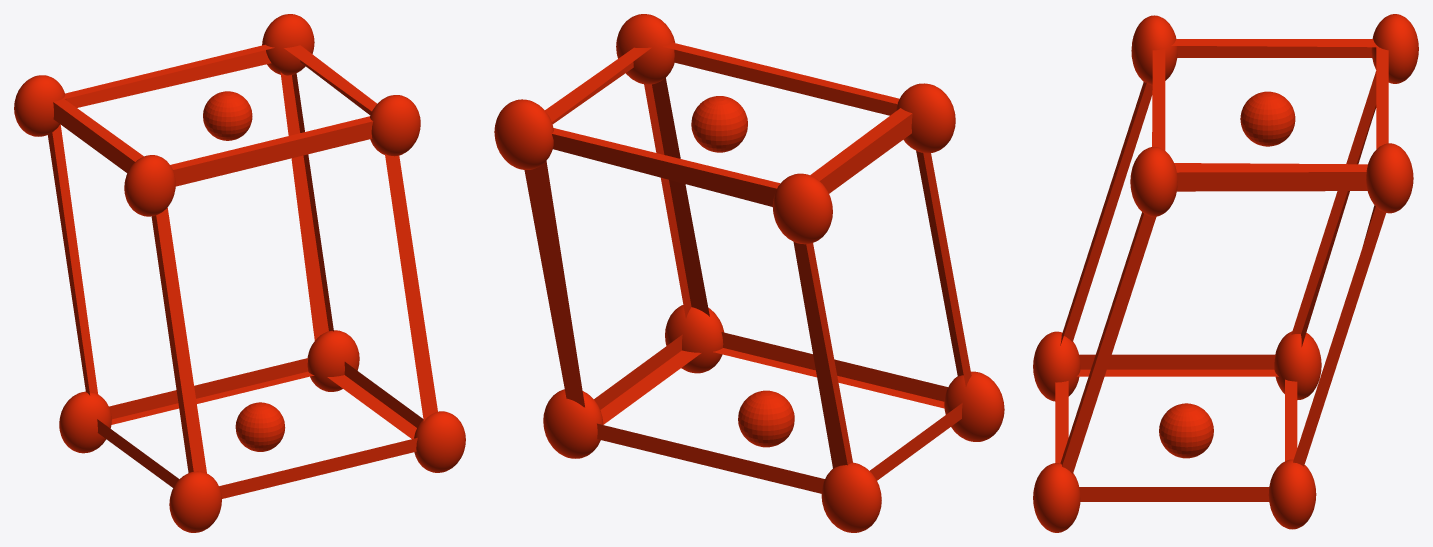
The model's file is Monoclinique2.fbx.
3 renders of one model, left to right at view 1: azimuth 30°, elevation 25°; view 2: azimuth 150°, elevation 25°; view 3: azimuth 270°, elevation 25°, orthographic. The views are drawn at different scales.
Visible parts, largest first — view 1: Sphere; view 2: Sphere; view 3: Sphere.
Part boxes in pixels (left/top/right/bottom): Sphere: left=14, top=14, right=465, bottom=532; Sphere: left=494, top=14, right=1004, bottom=532; Sphere: left=1033, top=14, right=1418, bottom=532.
Size of the model in its own units: 312 by 351 by 319.
